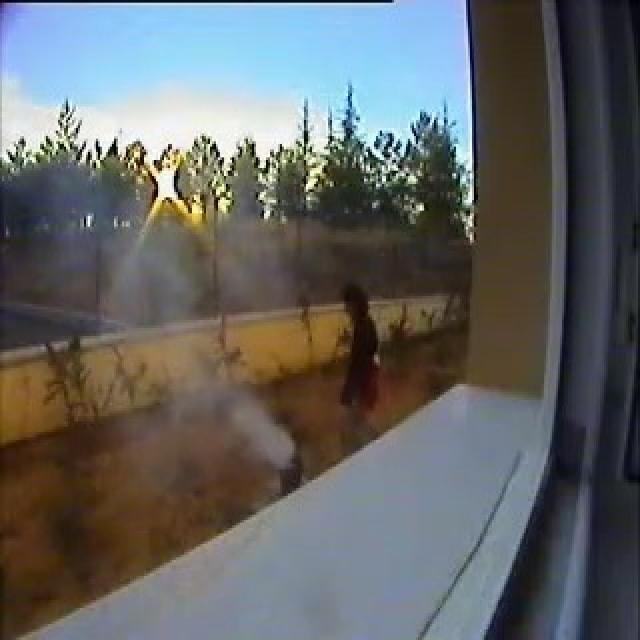smoke: (202, 388, 292, 466)
